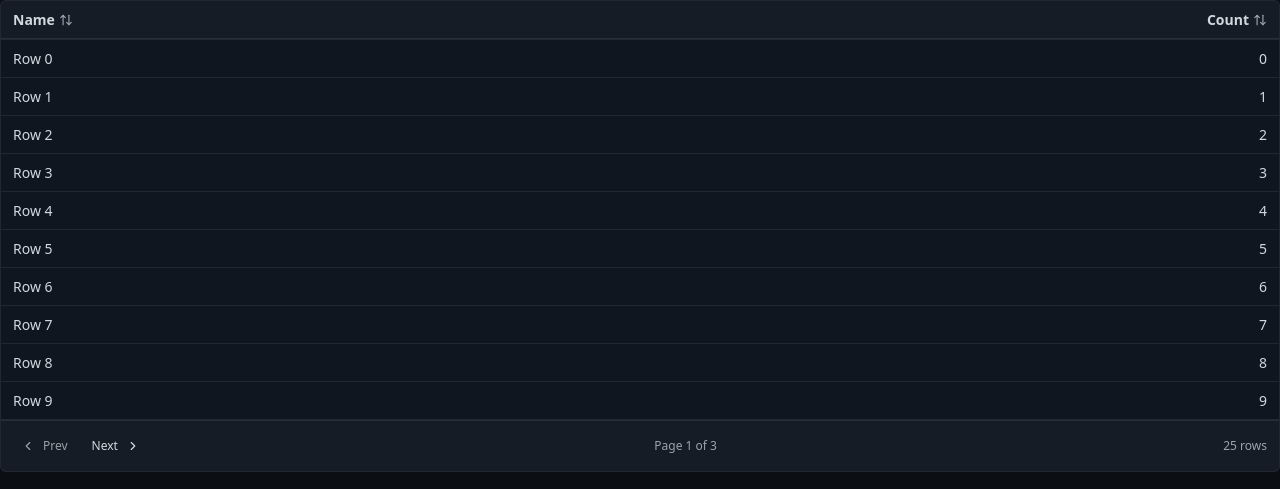
Test: Table — pagination behavior › Next button advances the page
The image size is (1280, 489).
Expected: the text "Row 0" is shown, [13, 49, 53, 68]
What coordinates should you click on to do the following:
click the button "Next"
I would click on:
 (116, 446)
Its box is [84, 433, 148, 459].
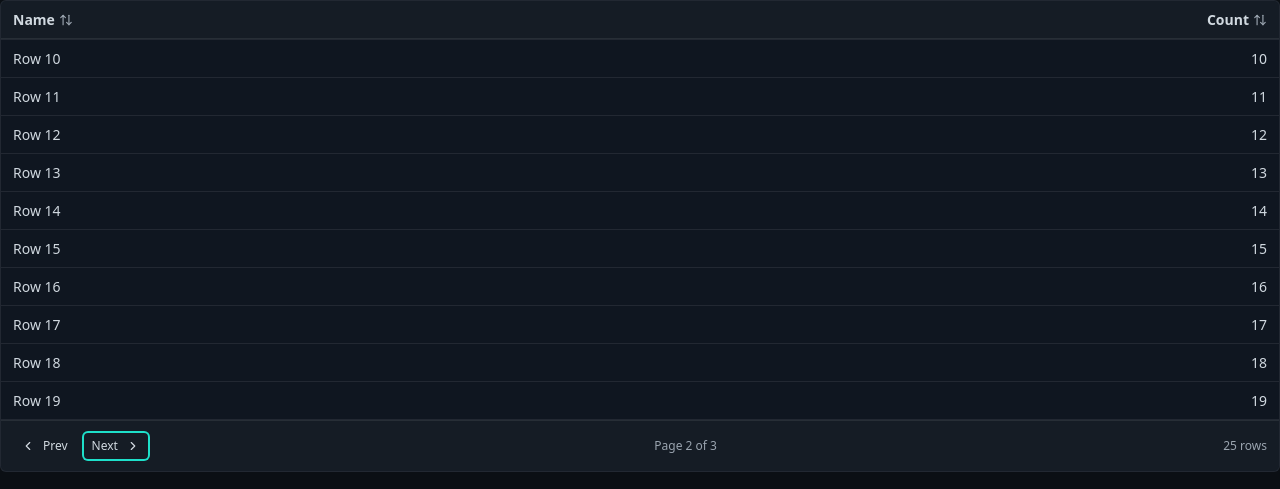
Now the text "Row 0" is gone
Now the text "Row 10" is shown, box [13, 49, 61, 68]
Now the text "Page 2 of 3" is shown, box [654, 437, 717, 455]
